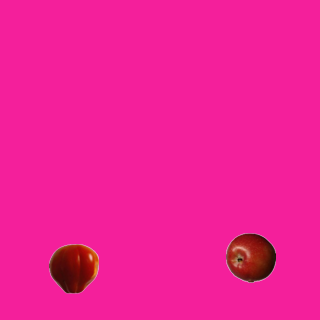Apple Braeburn: (225, 232, 275, 282)
Tomato 1: (48, 243, 98, 293)
